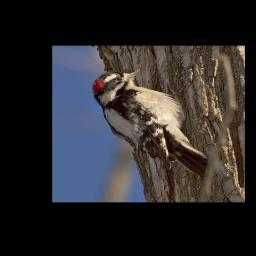Woodpecker: (91, 68, 208, 178)
